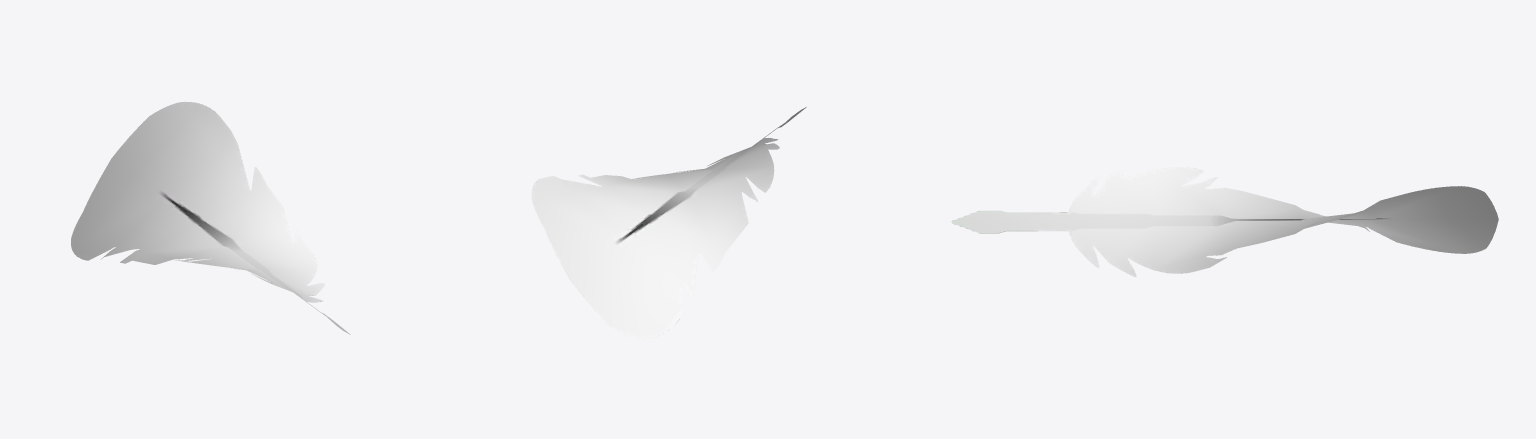
The model's file is SM_P_Card_Feather_02.obj.
The picture shows the model from 3 angles, left to right: view 1: azimuth 30°, elevation 25°; view 2: azimuth 150°, elevation 25°; view 3: azimuth 270°, elevation 25°; orthographic projection. The views are drawn at different scales.
Visible parts, largest first — view 1: SM_P_Card_Feather_02_mi_ChickenFeather; view 2: SM_P_Card_Feather_02_mi_ChickenFeather; view 3: SM_P_Card_Feather_02_mi_ChickenFeather.
Boxes of the visible parts, <box> form: SM_P_Card_Feather_02_mi_ChickenFeather: <box>71,101,350,334</box>; SM_P_Card_Feather_02_mi_ChickenFeather: <box>531,107,806,339</box>; SM_P_Card_Feather_02_mi_ChickenFeather: <box>951,167,1498,276</box>.
Bounding box in the file's own units: 0.1003 × 0.1131 × 0.2079.
1 material, 1 textured.
